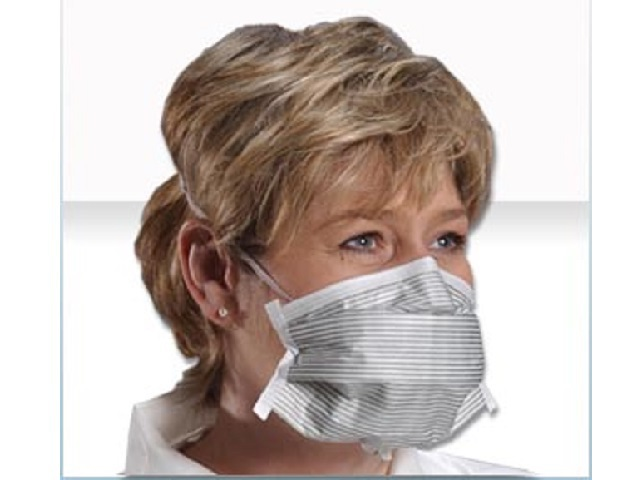mask: (299, 273, 510, 438)
